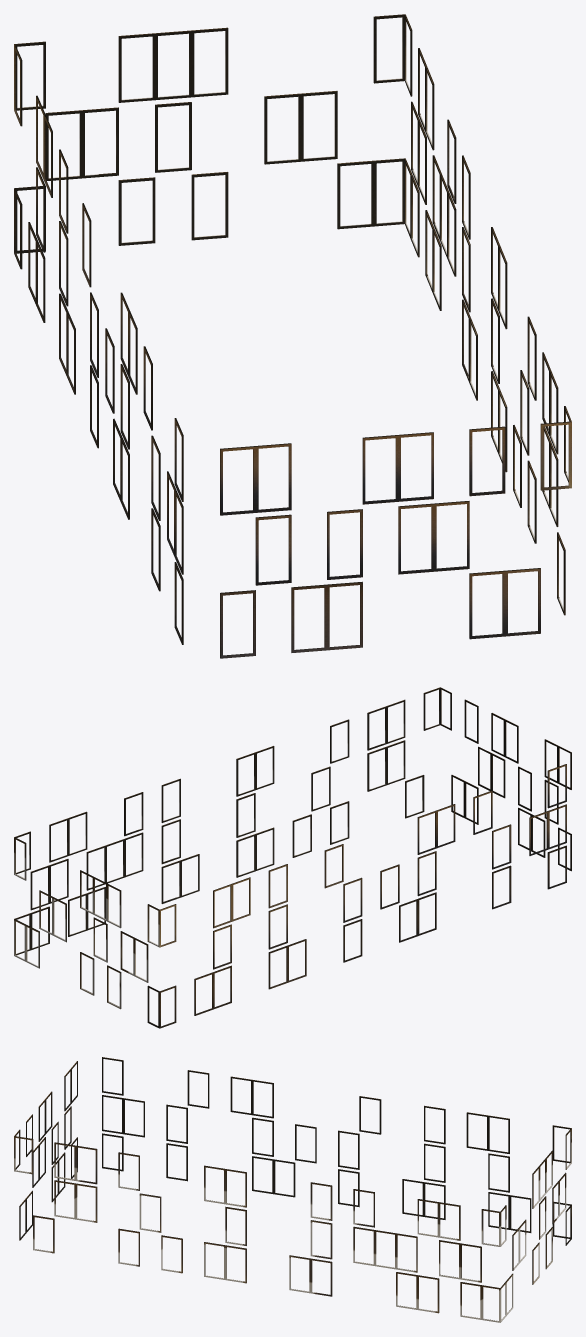
The model's file is Building_06_Frame.fbx.
The picture shows the model from 3 angles, top to bottom: view 1: azimuth 30°, elevation 25°; view 2: azimuth 150°, elevation 25°; view 3: azimuth 270°, elevation 25°; orthographic projection. The views are drawn at different scales.
Parts seen in each view (by area): view 1: Building_06_Frame; view 2: Building_06_Frame; view 3: Building_06_Frame.
Boxes of the visible parts, box(x1,y1,x2,y2) form: Building_06_Frame: box(14, 14, 571, 658); Building_06_Frame: box(14, 687, 571, 1028); Building_06_Frame: box(14, 1057, 571, 1322).
Bounding box in the file's own units: 26.44 × 8.82 × 40.23.
Materials: 1 (1 with a texture image).
